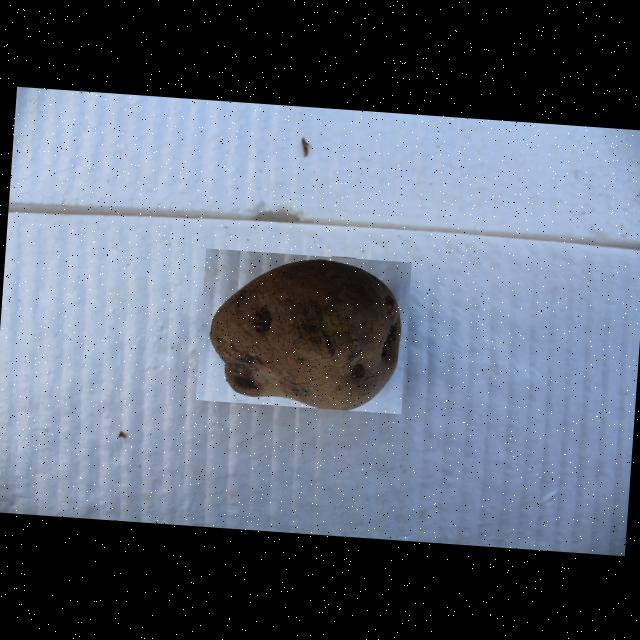Diseased-fungal potato: (194, 247, 410, 413)
